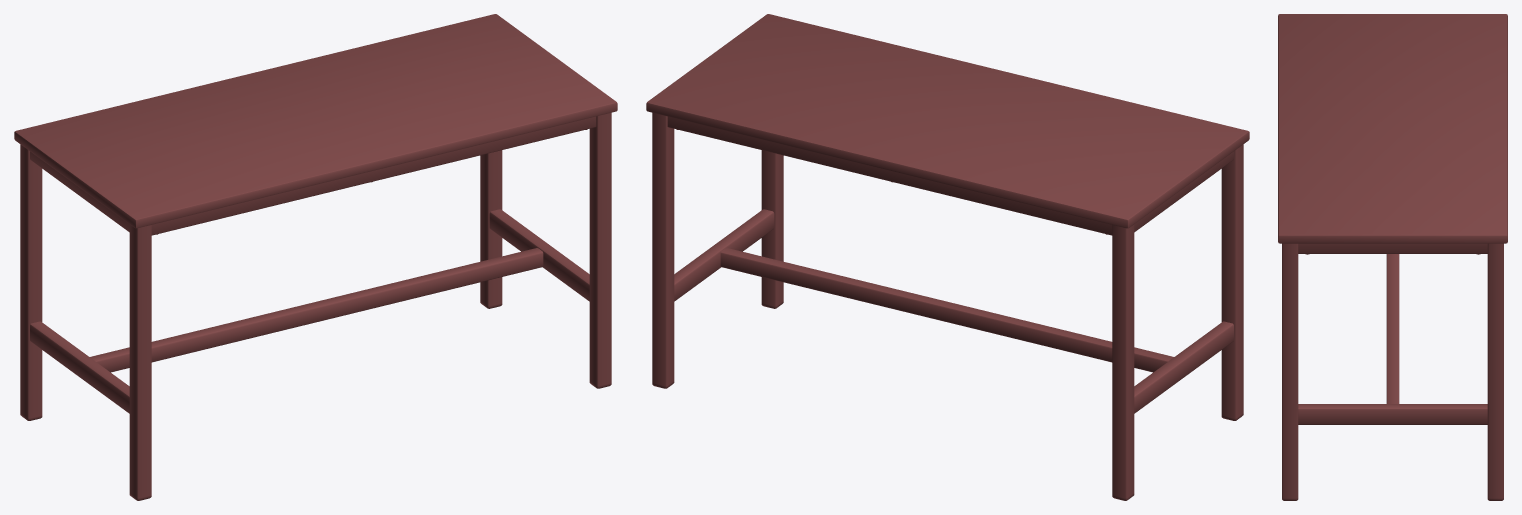
The model's file is LabTable.fbx.
3 views of the same model, side by side, from view 1: azimuth 30°, elevation 25°; view 2: azimuth 150°, elevation 25°; view 3: azimuth 270°, elevation 25° (orthographic). The views are drawn at different scales.
Parts seen in each view (by area): view 1: LabTable; view 2: LabTable; view 3: LabTable.
Part boxes in pixels (left/top/right/bottom): LabTable: left=14, top=14, right=617, bottom=500; LabTable: left=646, top=14, right=1249, bottom=500; LabTable: left=1278, top=14, right=1507, bottom=500.
Bounding box in the file's own units: 160 × 70 × 90.
